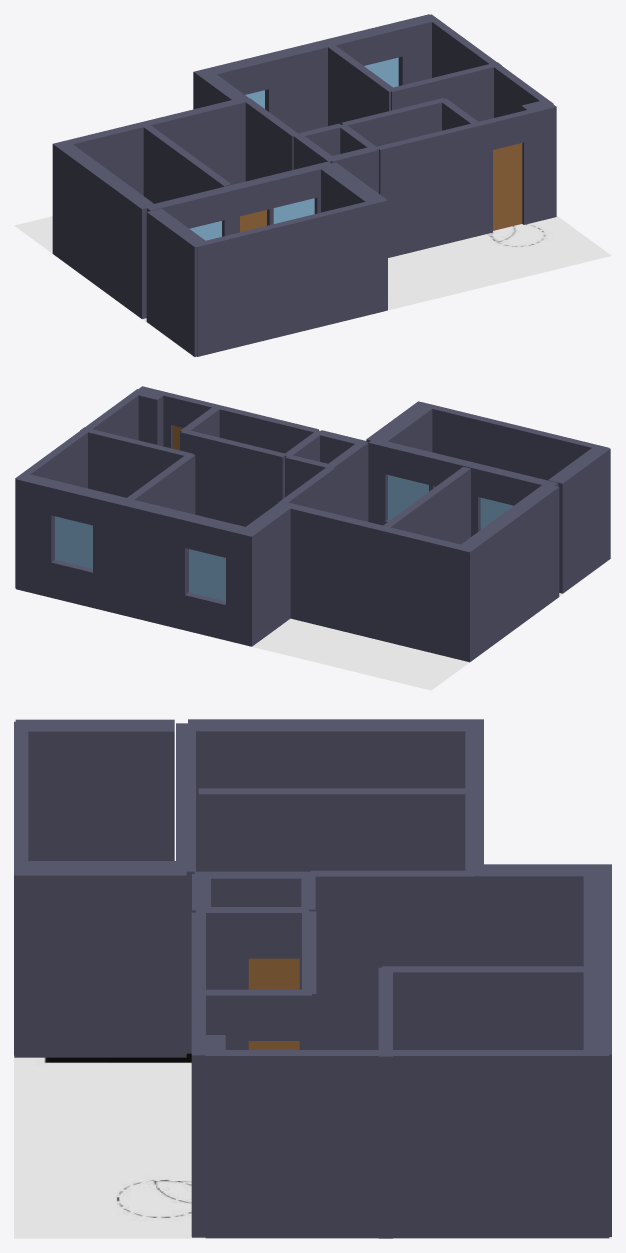
3 renders of one model, top to bottom at view 1: azimuth 30°, elevation 25°; view 2: azimuth 150°, elevation 25°; view 3: azimuth 270°, elevation 25°, orthographic. The views are drawn at different scales.
Parts seen in each view (by area): view 1: wall, FloorPlan, Door, Window; view 2: wall, FloorPlan, Window; view 3: wall, FloorPlan, Door.
Boxes of the visible parts, x1,y1,x2,y2 form: wall: (52,14,556,356); FloorPlan: (14,216,611,357); Door: (240,143,522,232); Window: (189,57,398,240); wall: (15,386,610,662); FloorPlan: (14,558,611,690); Window: (55,475,513,601); wall: (14,719,611,1238); FloorPlan: (14,1053,611,1238); Door: (248,958,299,1049).
Bounding box in the file's own units: 11.12 × 2.8 × 8.33.
Materials: 4 (1 with a texture image).
